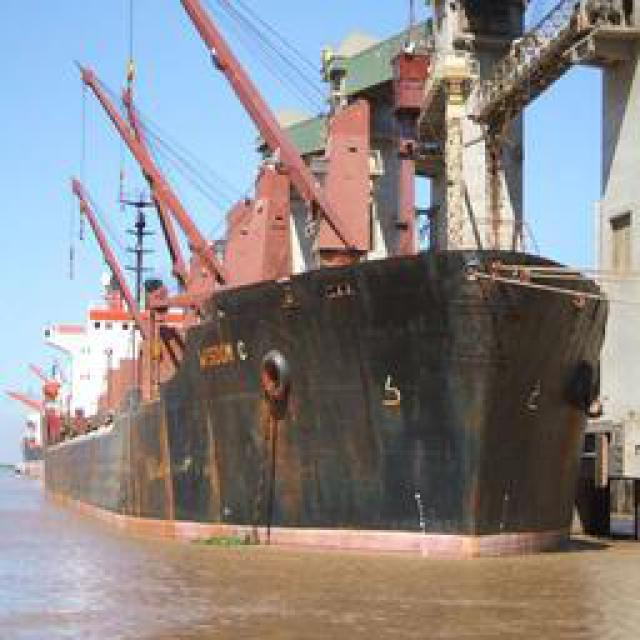Ship: (8, 13, 620, 562)
